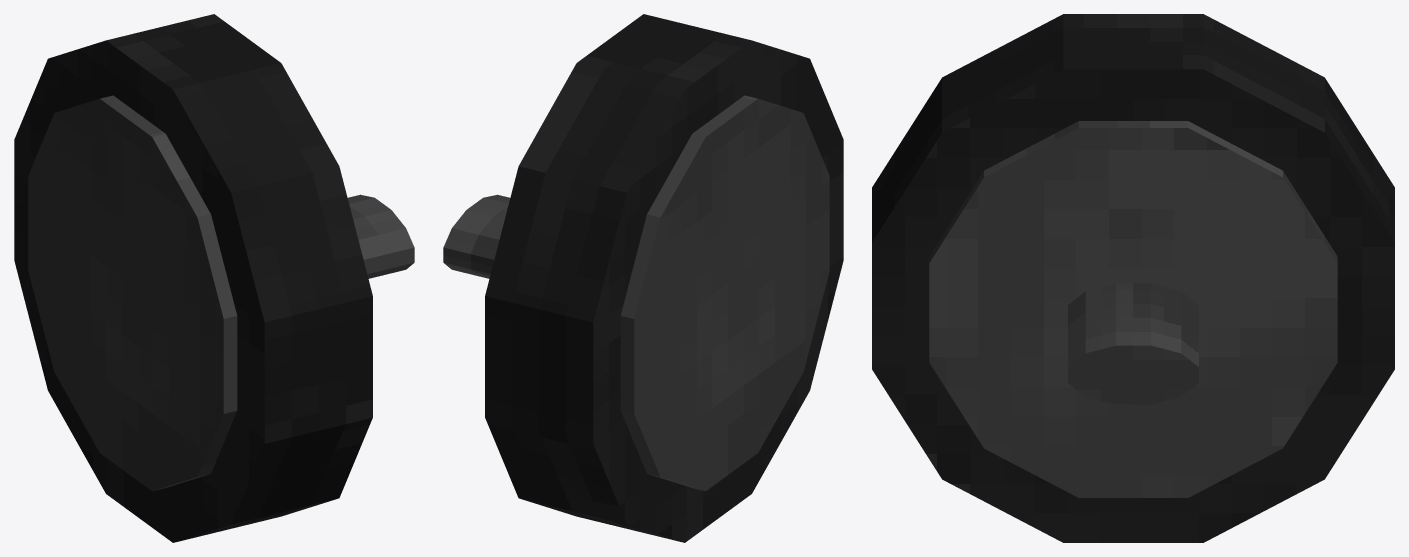
File: wheel.obj
3 views of the same model, side by side, from view 1: azimuth 30°, elevation 25°; view 2: azimuth 150°, elevation 25°; view 3: azimuth 270°, elevation 25° (orthographic). The views are drawn at different scales.
Visible parts, largest first — view 1: cylinder; view 2: cylinder; view 3: cylinder.
Part boxes in pixels (bbox=[...]): cylinder: bbox=[14, 14, 414, 542]; cylinder: bbox=[443, 14, 843, 542]; cylinder: bbox=[872, 14, 1394, 542].
Size of the model in its own units: 0.5938 by 1 by 1.
1 material, 1 textured.
